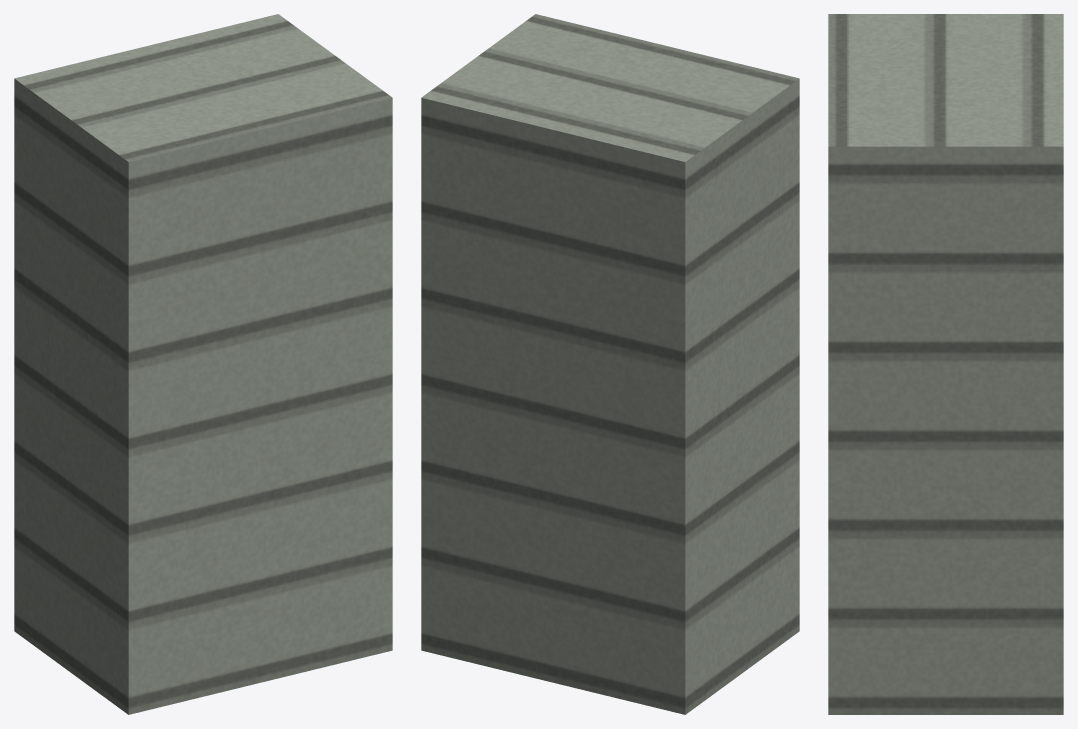
File: magazine_newspaper_rack.glb
3 views of the same model, side by side, from view 1: azimuth 30°, elevation 25°; view 2: azimuth 150°, elevation 25°; view 3: azimuth 270°, elevation 25° (orthographic). The views are drawn at different scales.
Visible parts, largest first — view 1: magazine_newspaper_rack-col; view 2: magazine_newspaper_rack-col; view 3: magazine_newspaper_rack-col.
Part boxes in pixels (bbox=[...]): magazine_newspaper_rack-col: bbox=[14, 14, 392, 714]; magazine_newspaper_rack-col: bbox=[421, 14, 799, 714]; magazine_newspaper_rack-col: bbox=[828, 14, 1063, 714].
Bounding box in the file's own units: 0.4 × 0.8 × 0.3.
Materials: 1 (1 with a texture image).
